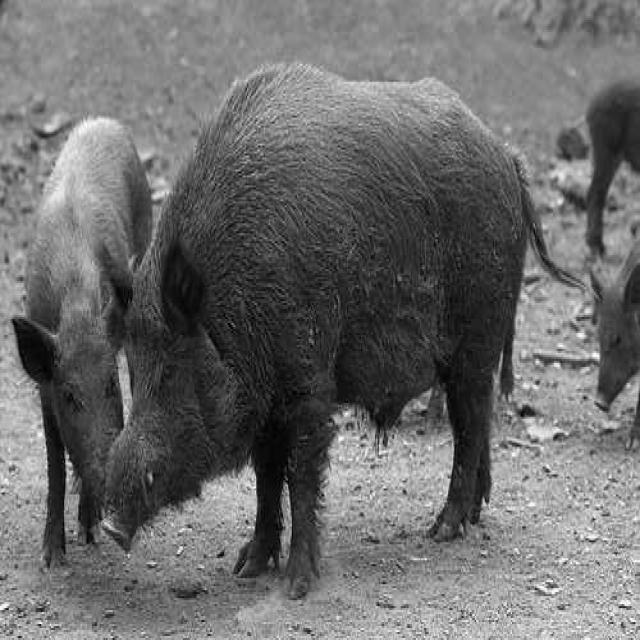boar: (99, 64, 582, 594), (12, 116, 148, 562), (585, 74, 637, 251), (590, 237, 637, 407)
